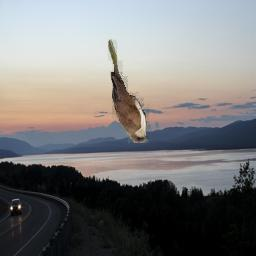Cuckoo: (108, 39, 149, 143)
